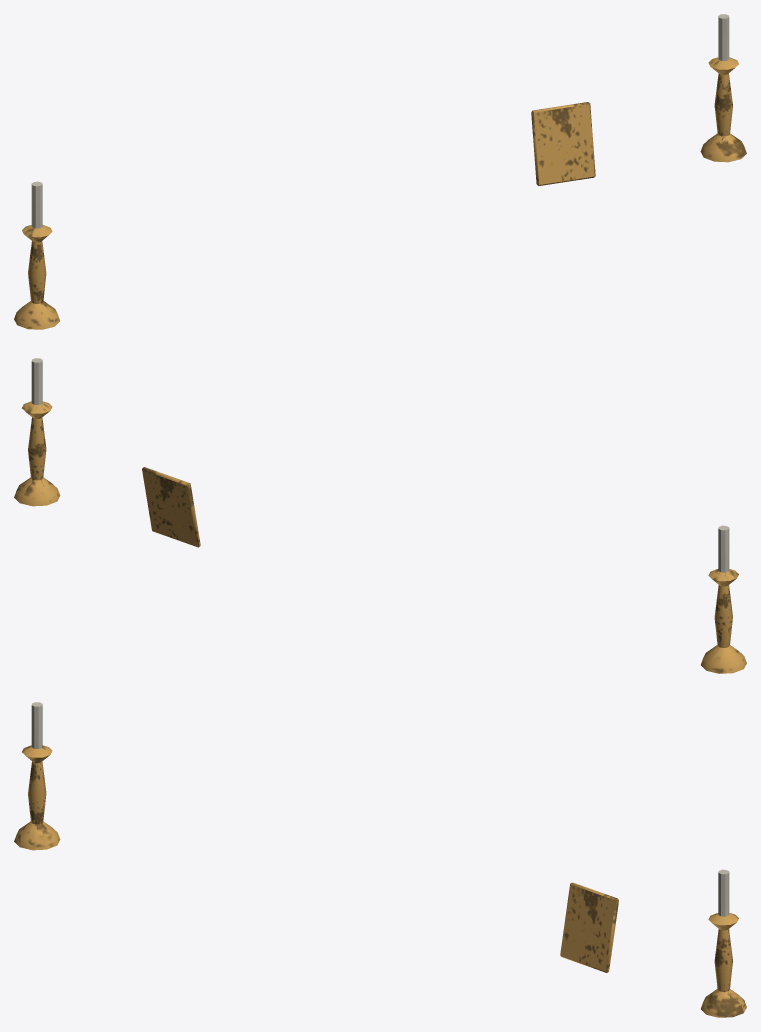
The model's file is MantelClutter.fbx.
3 views of the same model, one above another, from view 1: azimuth 30°, elevation 25°; view 2: azimuth 150°, elevation 25°; view 3: azimuth 330°, elevation 25° (orthographic).
Parts seen in each view (by area): view 1: MantelClutter; view 2: MantelClutter; view 3: MantelClutter.
Part boxes in pixels (x1=…): MantelClutter: x1=14, y1=14, x2=746, y2=329; MantelClutter: x1=14, y1=358, x2=746, y2=673; MantelClutter: x1=14, y1=702, x2=746, y2=1017.
Bounding box in the file's own units: 1.62 × 0.29 × 0.1228.
